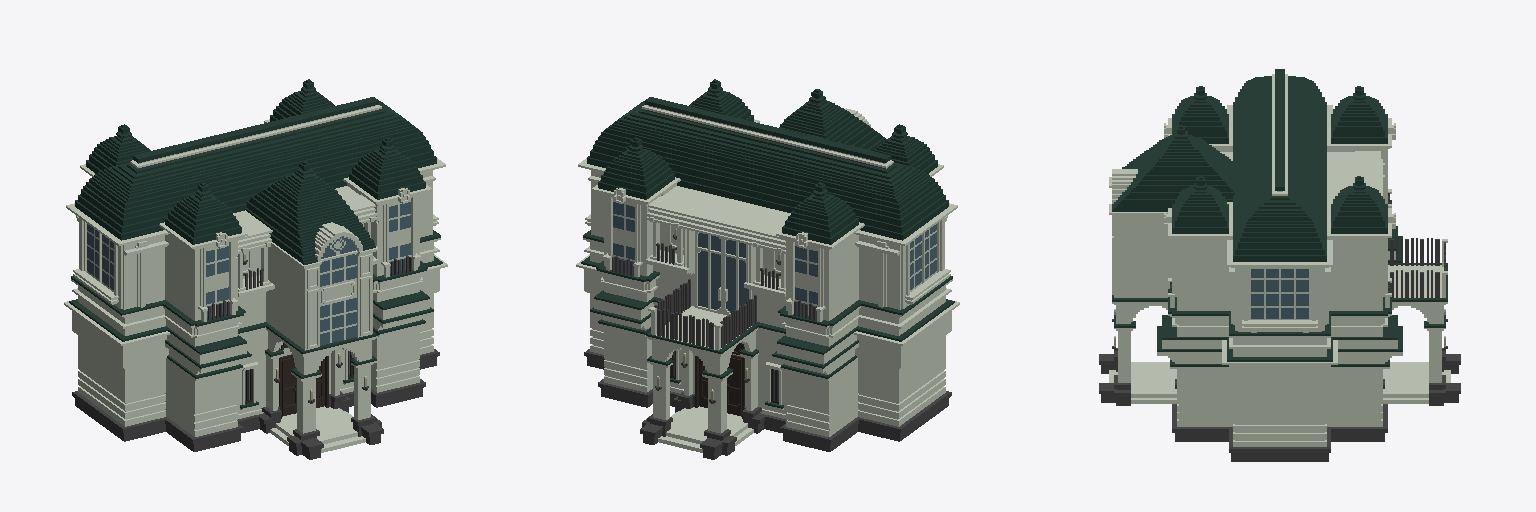
3 views of the same model, side by side, from view 1: azimuth 30°, elevation 25°; view 2: azimuth 150°, elevation 25°; view 3: azimuth 270°, elevation 25° (orthographic).
Visible parts, largest first — view 1: object 1; view 2: object 1; view 3: object 1.
Part boxes in pixels (left/top/right/bottom): object 1: left=64, top=79, right=447, bottom=459; object 1: left=576, top=79, right=959, bottom=459; object 1: left=1099, top=69, right=1460, bottom=461.
Bounding box in the file's own units: 17.4 × 13.2 × 16.7.
Materials: 1 (1 with a texture image).